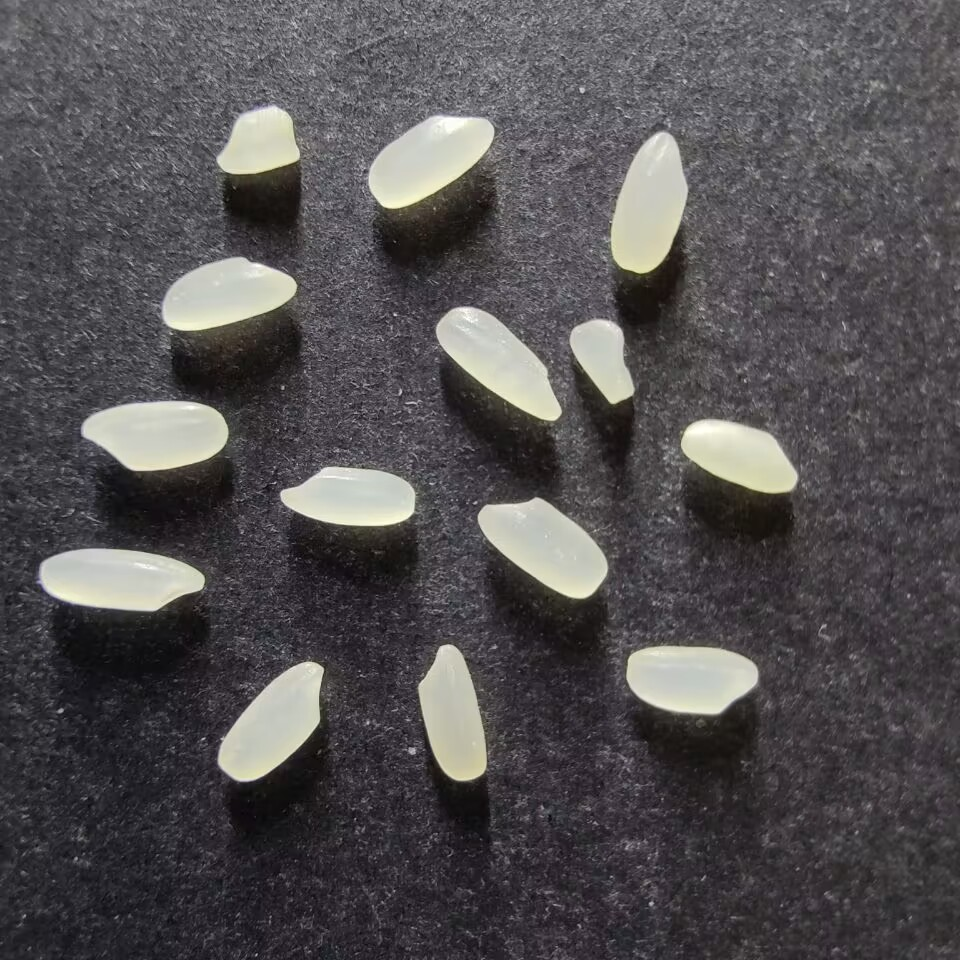broken: (215, 106, 300, 174), (567, 319, 635, 404)
rice: (434, 306, 564, 422), (476, 497, 608, 600), (216, 661, 325, 782), (367, 115, 495, 209), (609, 131, 689, 274), (39, 548, 205, 612), (80, 400, 227, 472), (161, 255, 296, 331), (417, 644, 487, 781), (625, 645, 759, 715), (679, 418, 799, 494), (279, 466, 416, 527)
